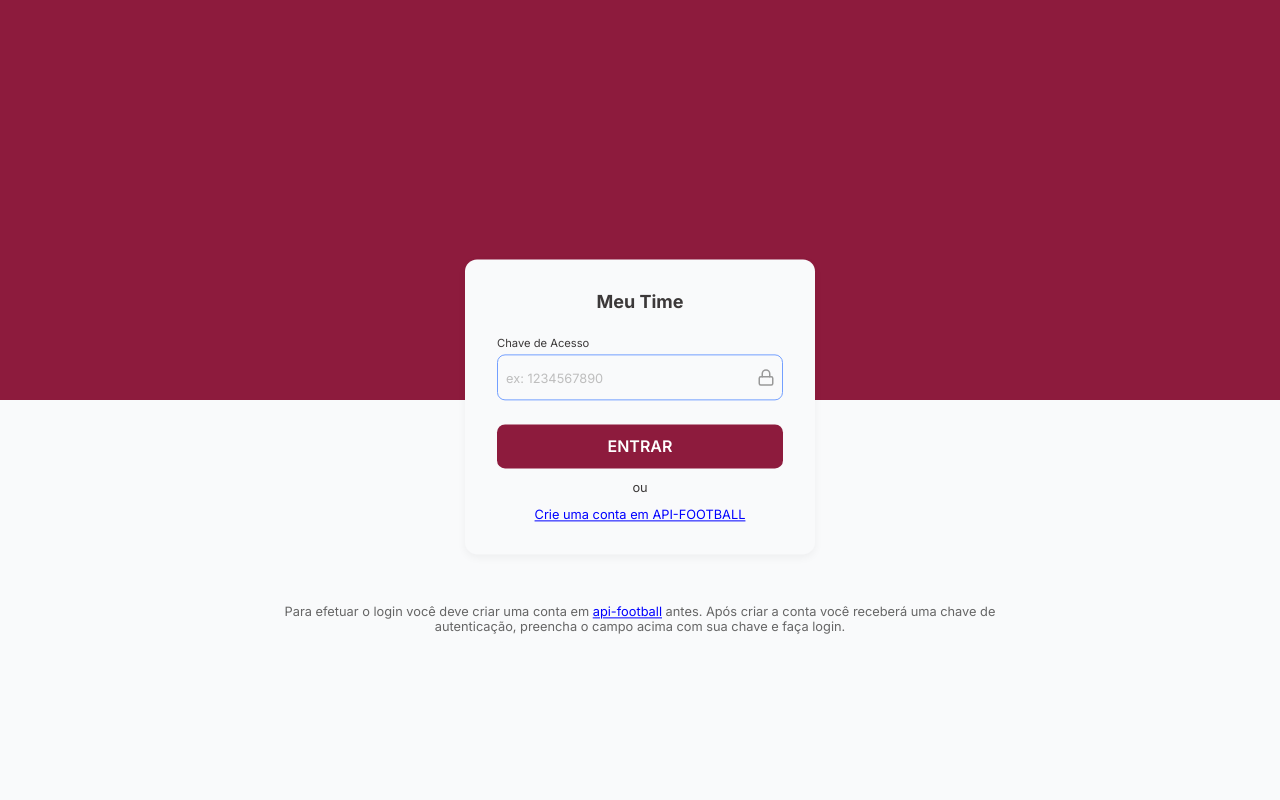
Test case: User Authentication › User attempts login with an invalid key › Then I should see an error message
The width and height of the screenshot is (1280, 800).
Click the button with test id "cy-button".
click(640, 446)  # box 497,424 -> 783,468
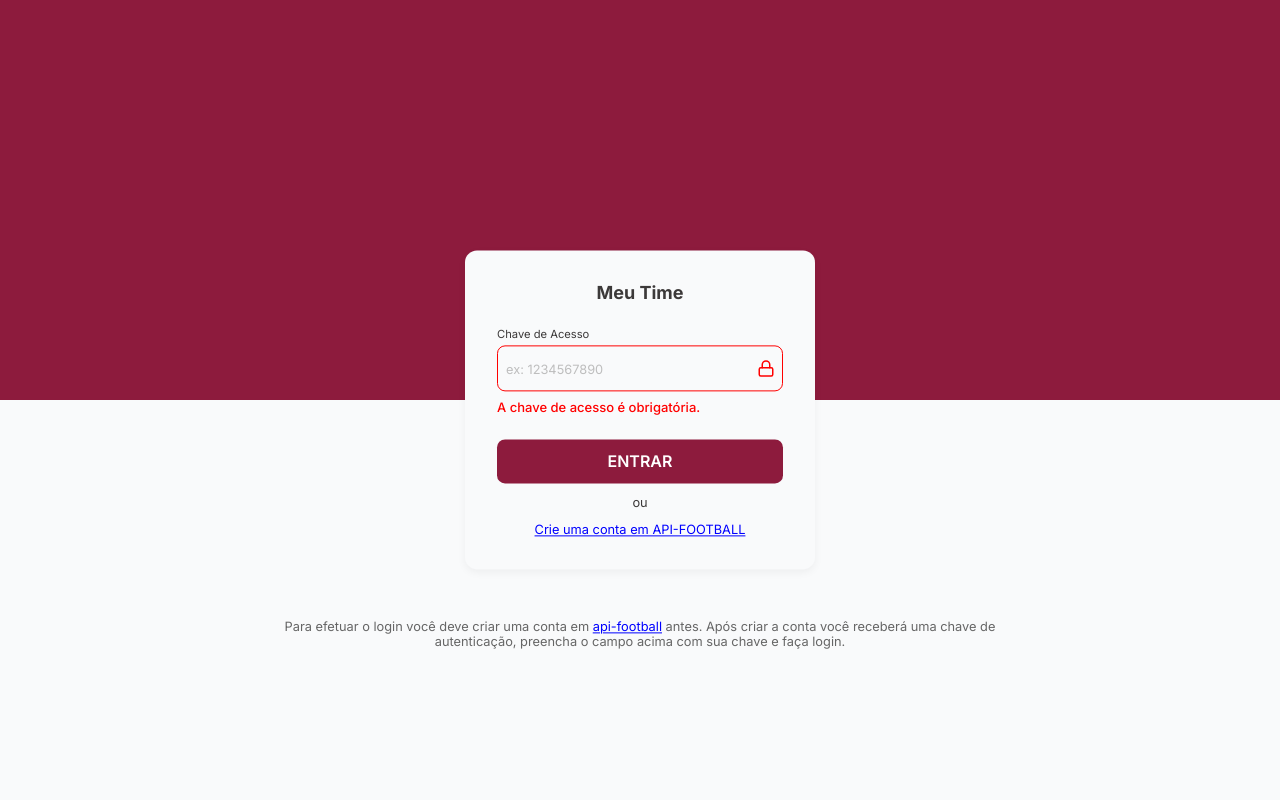
Expected: the text with test id "cy-error" reads "A chave de acesso é obrigatória.", 497,391 -> 700,415
